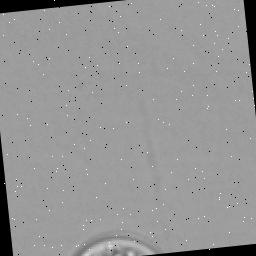picoshell: (74, 237, 155, 256)
